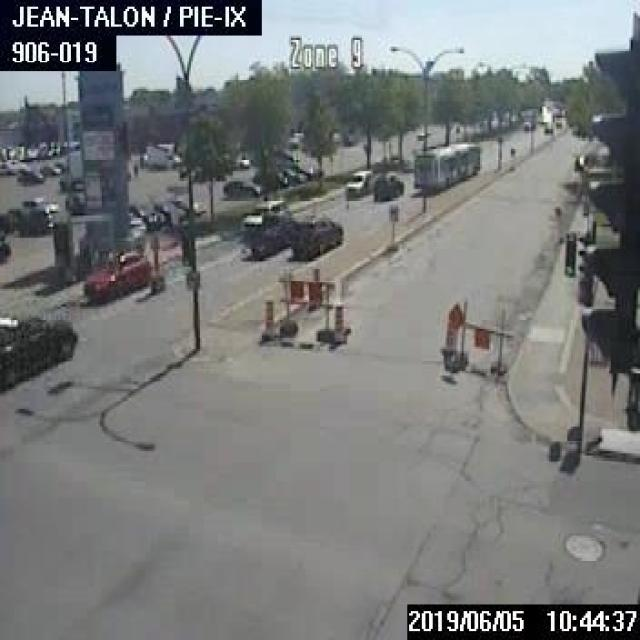bus: (413, 141, 479, 191)
construction: (440, 297, 510, 380), (275, 267, 335, 341), (438, 308, 460, 352), (260, 296, 276, 340), (330, 302, 345, 342)
pedestrian: (132, 158, 138, 174)
vehicle: (0, 316, 73, 391), (82, 250, 148, 302), (238, 210, 300, 258), (288, 214, 342, 256), (241, 199, 289, 229), (8, 206, 43, 234), (128, 202, 163, 227), (343, 167, 372, 195), (152, 199, 186, 222), (373, 170, 402, 196), (253, 168, 286, 188), (223, 177, 261, 194), (170, 194, 203, 213), (22, 195, 56, 211), (15, 168, 42, 184), (298, 159, 324, 175), (282, 166, 305, 183), (4, 158, 30, 172), (128, 209, 144, 230), (39, 159, 60, 174), (0, 230, 9, 263), (0, 159, 16, 173), (522, 118, 534, 131), (542, 122, 552, 132), (554, 118, 561, 125)
